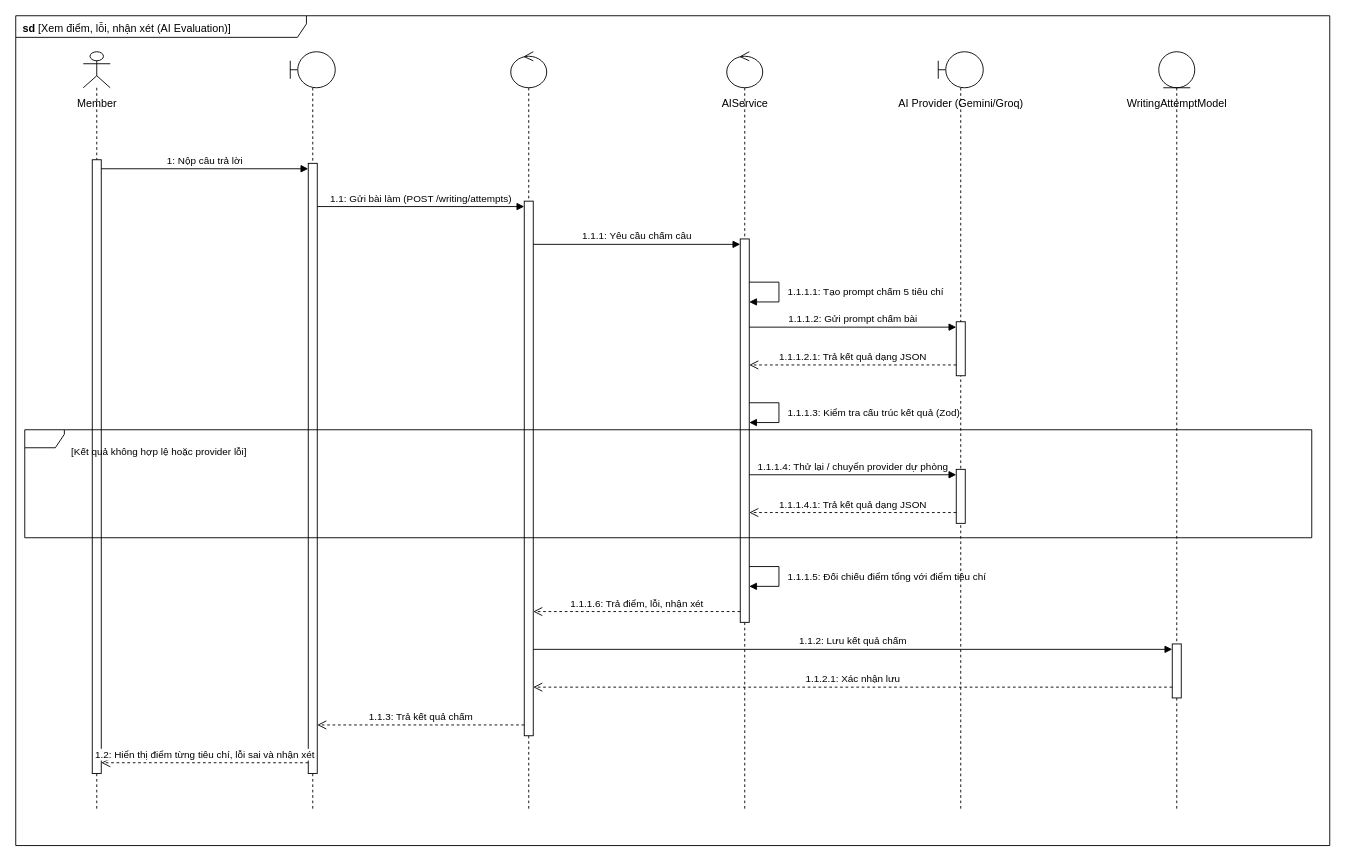
This 1346x861 diagram has some shape labels left out. The shapes that lost their labels are listed below. From the top down, each one's box as (x1, y1, x2, y2) in pixels, then its label:
(289, 51, 335, 810): UI Kết quả chấm
(510, 51, 547, 810): WritingController
(24, 429, 1312, 538): alt
